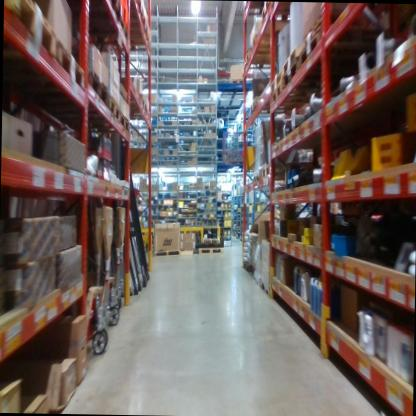pallet: (11, 37, 87, 95), (19, 67, 110, 111), (3, 0, 59, 69), (291, 6, 388, 43), (296, 26, 378, 64), (283, 60, 345, 109), (51, 84, 123, 126), (271, 78, 338, 121), (68, 9, 134, 45), (249, 25, 297, 57), (241, 54, 297, 79), (61, 0, 122, 21), (279, 42, 309, 77), (260, 1, 317, 19), (261, 160, 293, 183), (267, 70, 281, 100), (197, 243, 224, 256), (153, 246, 180, 258), (256, 276, 270, 298), (118, 115, 133, 135), (251, 168, 260, 186), (249, 265, 258, 277), (243, 261, 251, 272)
pallet_truck: (82, 207, 104, 360), (96, 195, 115, 365), (107, 203, 130, 340)
